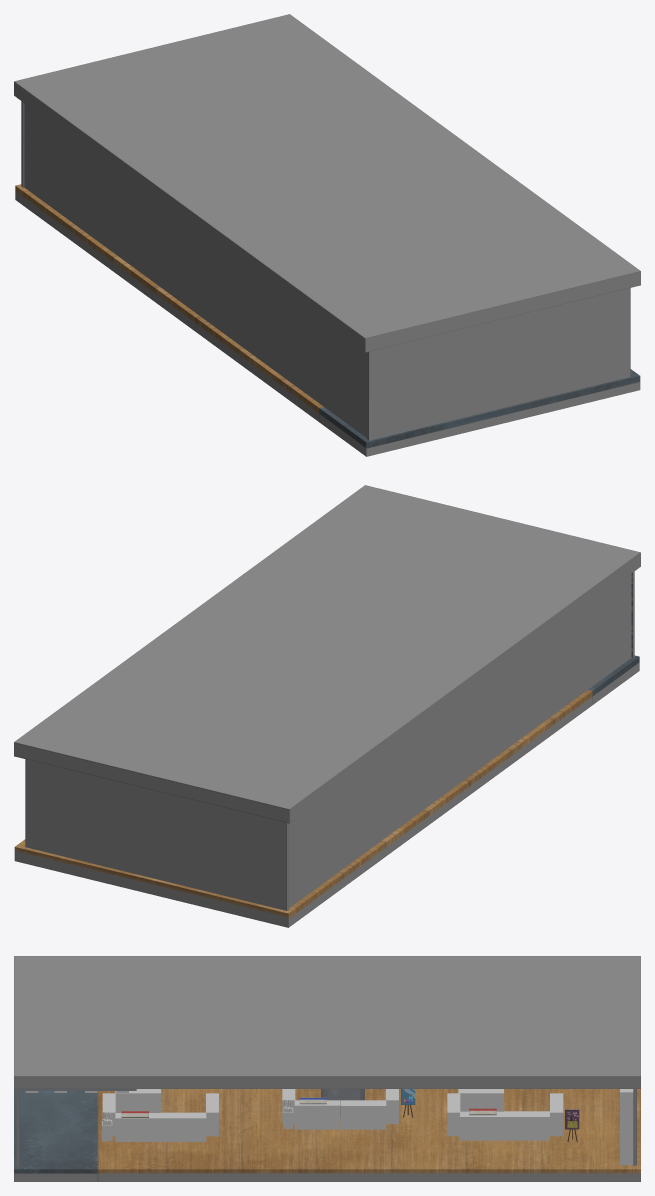
The model's file is shop002.fbx.
3 views of the same model, one above another, from view 1: azimuth 30°, elevation 25°; view 2: azimuth 150°, elevation 25°; view 3: azimuth 270°, elevation 25° (orthographic). The views are drawn at different scales.
Visible parts, largest first — view 1: Cube.009, Cube.002, Cube.004, Cube.010; view 2: Cube.009, Cube.002, Cube.003, Cube.010; view 3: Cube.009, Cube.010, Cube.025, Cube.076, Cube.083, Cube.026, Cube.086, Cube.077, Cube.016, Cube.082, Cube.124, Cube.122 (+6 smaller).
Part boxes in pixels (x1,y1,x2,y2): Cube.009: [14, 14, 640, 352]; Cube.002: [24, 103, 366, 437]; Cube.004: [367, 288, 630, 440]; Cube.010: [15, 184, 640, 456]; Cube.009: [14, 485, 640, 823]; Cube.002: [289, 574, 631, 908]; Cube.003: [25, 759, 288, 910]; Cube.010: [14, 655, 639, 927]; Cube.009: [14, 956, 640, 1088]; Cube.010: [14, 1089, 640, 1181]; Cube.025: [340, 1100, 386, 1129]; Cube.076: [160, 1112, 206, 1141]; Cube.083: [504, 1111, 549, 1140]; Cube.026: [294, 1100, 340, 1129]; Cube.086: [460, 1111, 505, 1140]; Cube.077: [115, 1113, 160, 1141]; Cube.016: [620, 1089, 633, 1165]; Cube.082: [115, 1089, 160, 1112]; Cube.124: [458, 1089, 503, 1111]; Cube.122: [550, 1093, 563, 1136].
Bounding box in the file's own units: 517 × 213 × 1140.
